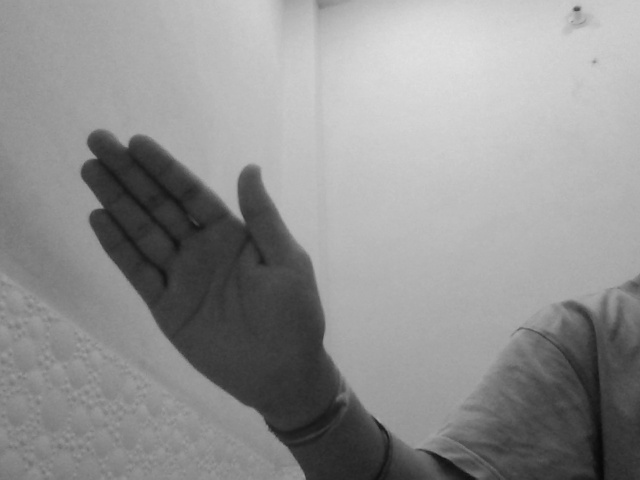Hello: (74, 128, 329, 407)
